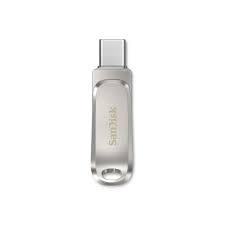Flash-drive: (92, 27, 138, 186)
